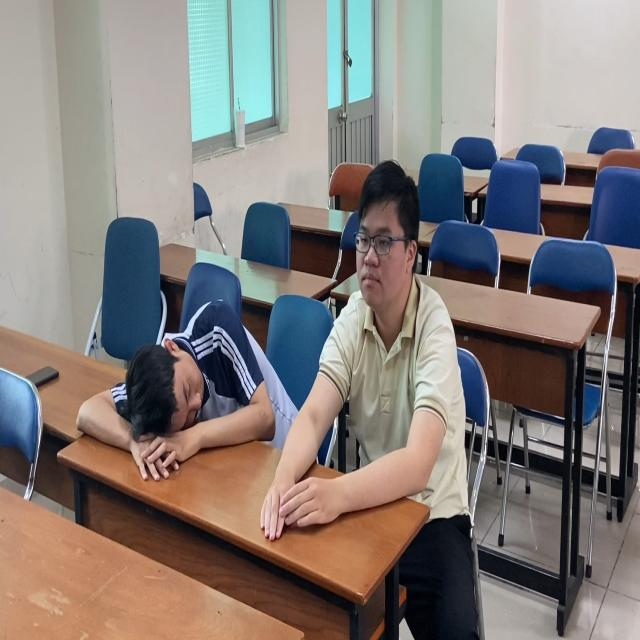sleep: (71, 294, 296, 483)
